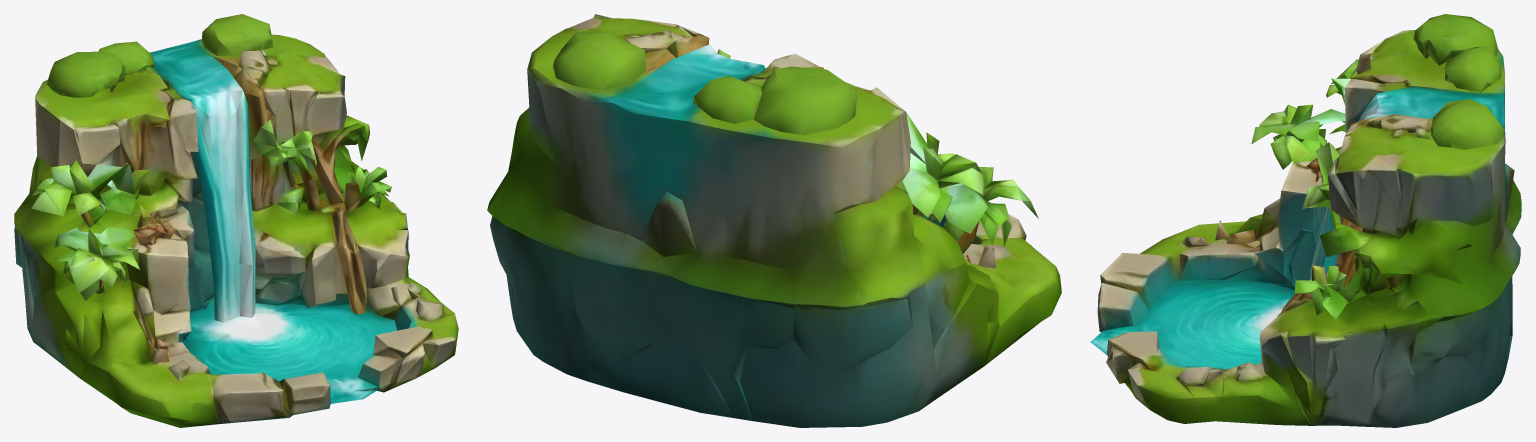
The model's file is waterfallCliff.glb.
3 renders of one model, left to right at view 1: azimuth 30°, elevation 25°; view 2: azimuth 150°, elevation 25°; view 3: azimuth 270°, elevation 25°, orthographic. The views are drawn at different scales.
Visible parts, largest first — view 1: model; view 2: model; view 3: model.
Boxes of the visible parts, x1,y1,x2,y2 form: model: (14, 14, 458, 427); model: (487, 14, 1061, 427); model: (1090, 14, 1521, 427).
Bounding box in the file's own units: 1.89 × 1.31 × 1.85.
1 material, 1 textured.
